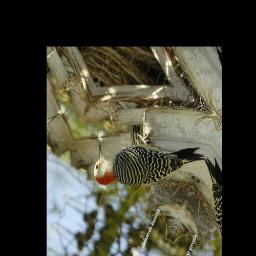Woodpecker: (85, 93, 208, 235)
